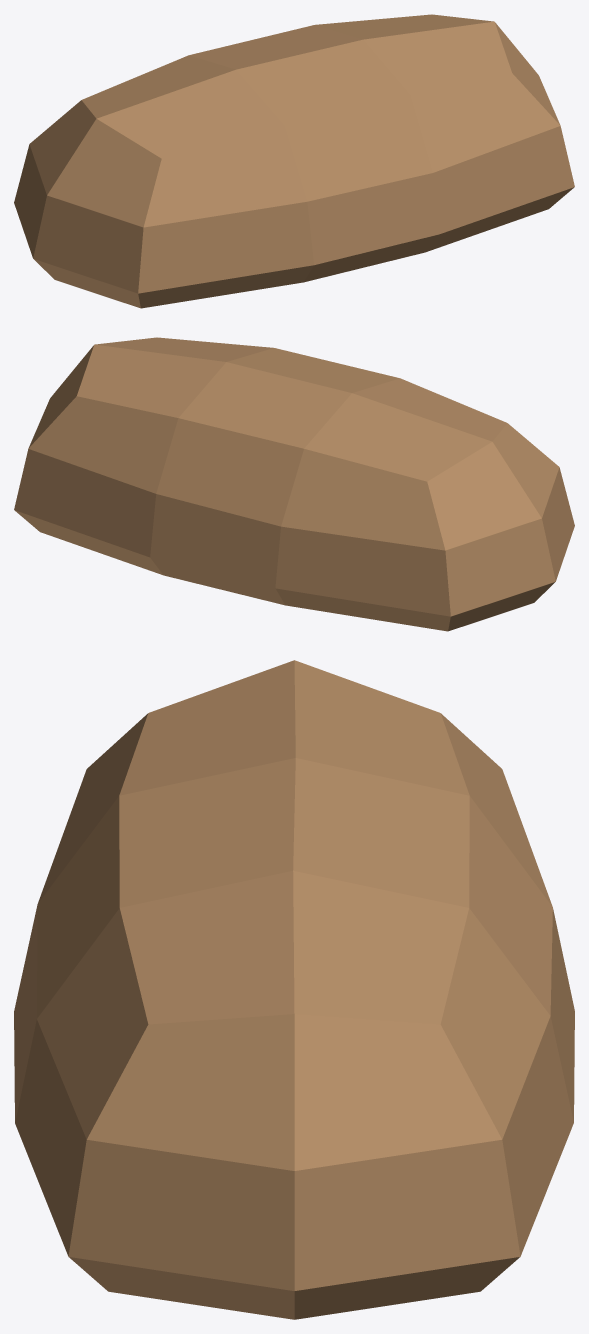
File: SM_bread_01.fbx
The picture shows the model from 3 angles, top to bottom: view 1: azimuth 30°, elevation 25°; view 2: azimuth 150°, elevation 25°; view 3: azimuth 270°, elevation 25°; orthographic projection. The views are drawn at different scales.
Visible parts, largest first — view 1: Box112; view 2: Box112; view 3: Box112.
Part boxes in pixels (box(x1,y1,x2,y2)): Box112: box(14, 14, 574, 308); Box112: box(14, 337, 574, 631); Box112: box(14, 660, 574, 1319).
Bounding box in the file's own units: 25.84 × 7.89 × 13.3.
